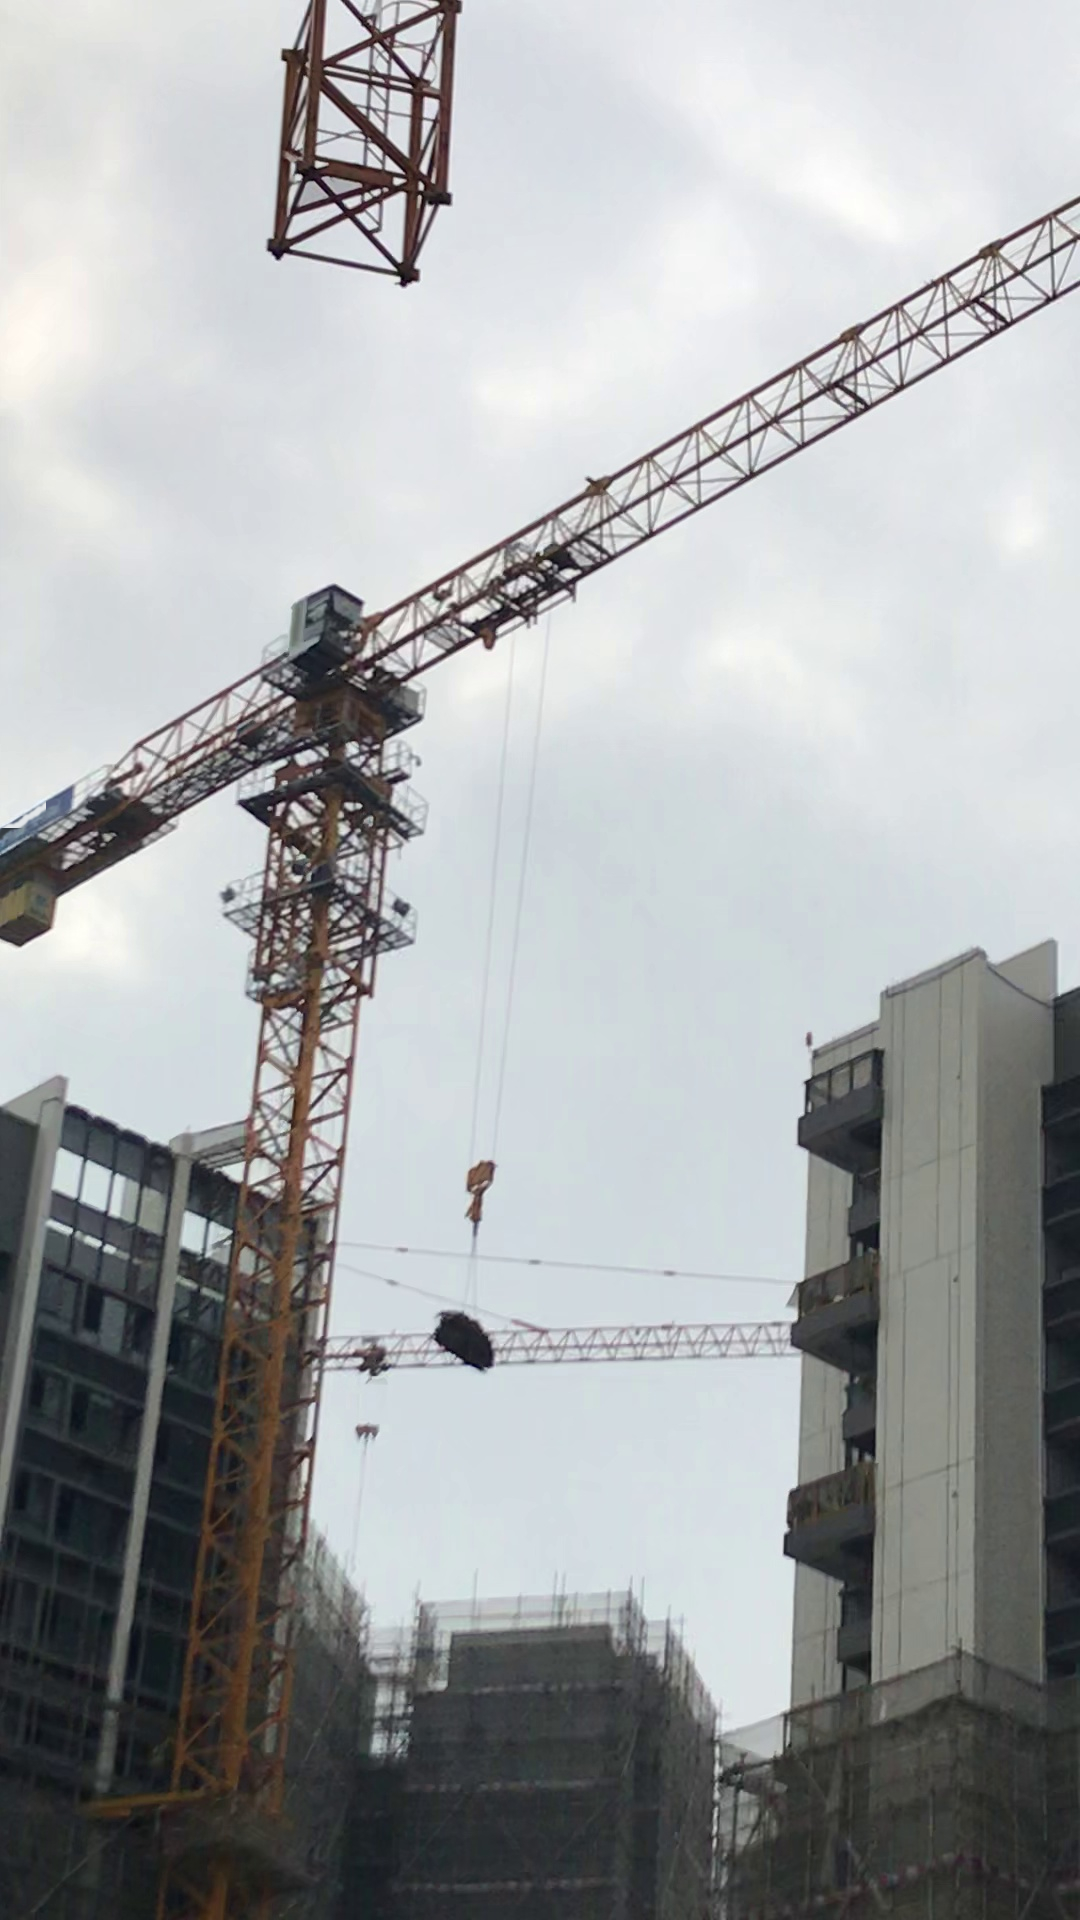board: (431, 1307, 497, 1385)
hook: (465, 1158, 502, 1236), (359, 1423, 380, 1437)
